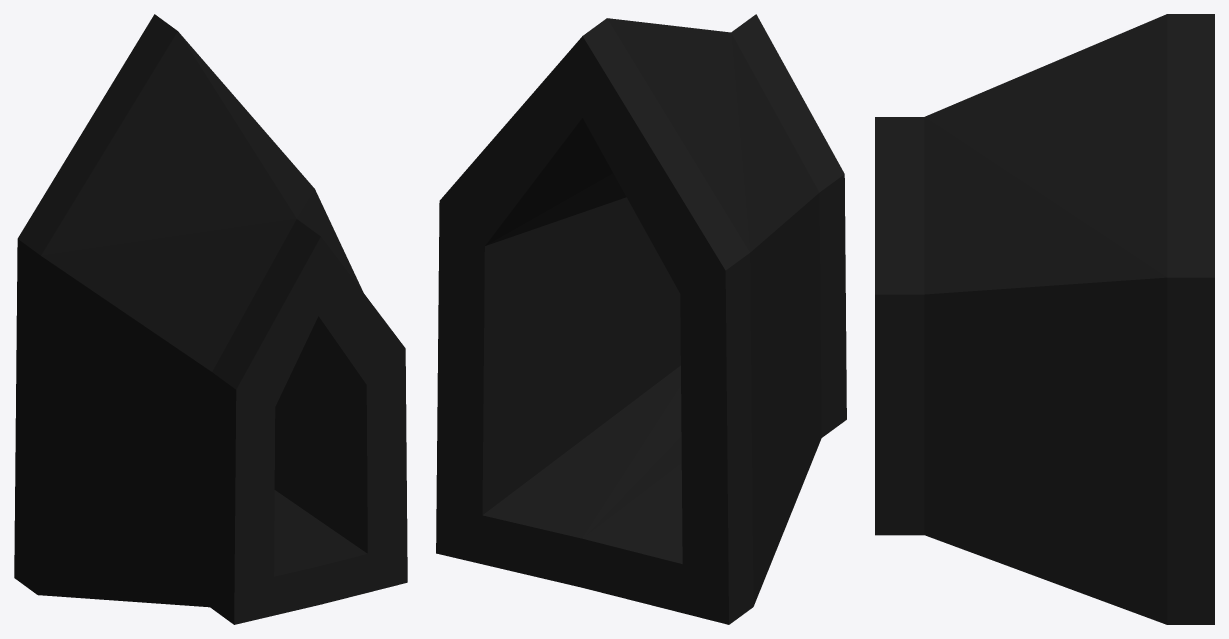
The model's file is Opening_Frame_Small.fbx.
3 renders of one model, left to right at view 1: azimuth 30°, elevation 25°; view 2: azimuth 150°, elevation 25°; view 3: azimuth 270°, elevation 25°, orthographic. The views are drawn at different scales.
Visible parts, largest first — view 1: Opening_Frame_Small; view 2: Opening_Frame_Small; view 3: Opening_Frame_Small.
Part boxes in pixels (x1,y1,x2,y2): Opening_Frame_Small: [14, 14, 407, 624]; Opening_Frame_Small: [436, 14, 846, 624]; Opening_Frame_Small: [875, 14, 1214, 624].
Size of the model in its own units: 250 by 452 by 257.
